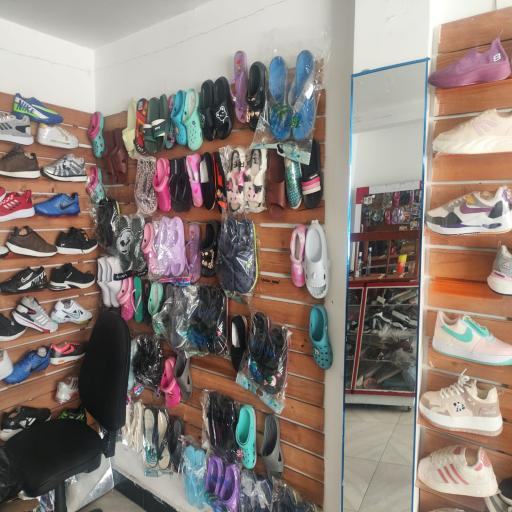sandal: (288, 50, 316, 140), (303, 220, 331, 298), (131, 223, 152, 323), (268, 56, 291, 140), (234, 219, 258, 294), (309, 304, 333, 373), (300, 138, 323, 209), (160, 216, 186, 277), (217, 217, 238, 292), (261, 414, 284, 479), (244, 149, 267, 213), (226, 147, 248, 213), (266, 149, 286, 221), (134, 156, 158, 216), (246, 61, 266, 132), (212, 76, 234, 140), (229, 51, 248, 123), (236, 405, 257, 469), (182, 88, 203, 151), (170, 157, 192, 213), (200, 219, 220, 278), (160, 357, 181, 408), (199, 79, 216, 141), (141, 221, 160, 276), (151, 94, 169, 152), (290, 225, 306, 287), (199, 152, 216, 210), (186, 154, 204, 208), (153, 158, 171, 212), (130, 212, 146, 272), (185, 223, 201, 283), (212, 152, 228, 212), (111, 128, 128, 184), (284, 158, 302, 209), (122, 98, 137, 159), (143, 97, 159, 154), (231, 315, 247, 372), (171, 90, 187, 146), (143, 406, 157, 468), (168, 417, 184, 471), (156, 410, 170, 471), (174, 355, 192, 400), (134, 98, 148, 154), (148, 282, 163, 334), (117, 277, 134, 322), (86, 166, 106, 204), (169, 159, 183, 213), (88, 111, 104, 158), (102, 131, 116, 184), (166, 94, 176, 149), (141, 279, 152, 326)
shoe: (425, 126, 512, 236), (419, 371, 503, 436), (428, 32, 510, 88), (432, 311, 512, 366), (417, 445, 498, 498), (432, 108, 512, 154), (0, 262, 95, 290), (0, 406, 51, 442), (4, 346, 50, 384), (12, 297, 58, 333), (12, 93, 64, 124), (6, 226, 57, 257), (0, 145, 41, 179), (0, 266, 48, 293), (41, 154, 87, 182), (487, 245, 512, 295), (34, 192, 80, 217), (56, 227, 98, 254), (0, 190, 35, 222), (36, 123, 78, 149), (0, 113, 34, 145), (51, 299, 92, 324), (484, 478, 510, 512), (50, 341, 85, 365), (88, 111, 105, 158), (0, 314, 26, 341), (55, 376, 79, 403), (59, 404, 87, 422), (498, 477, 512, 506), (0, 349, 13, 379), (0, 246, 9, 258)
